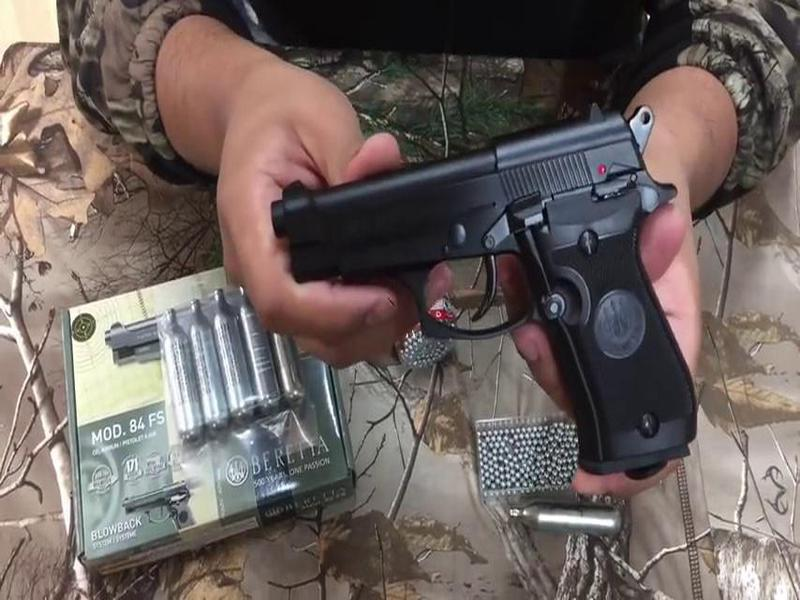Pistola: (255, 109, 736, 464)
